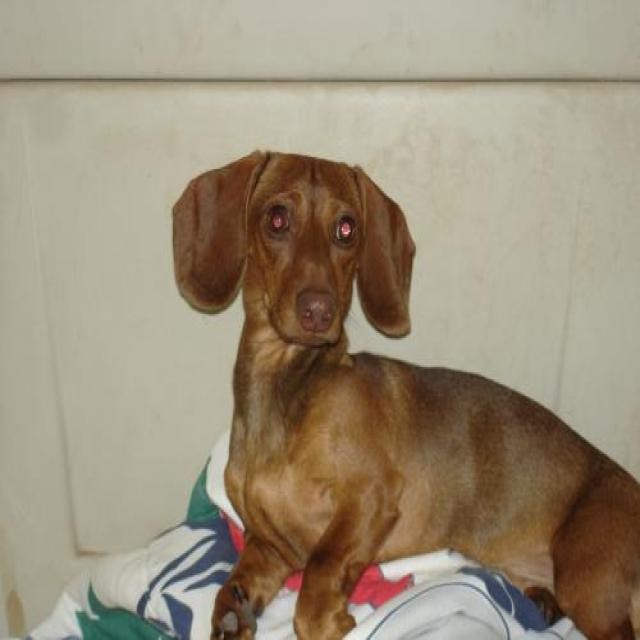Dogs: (170, 147, 639, 638)
